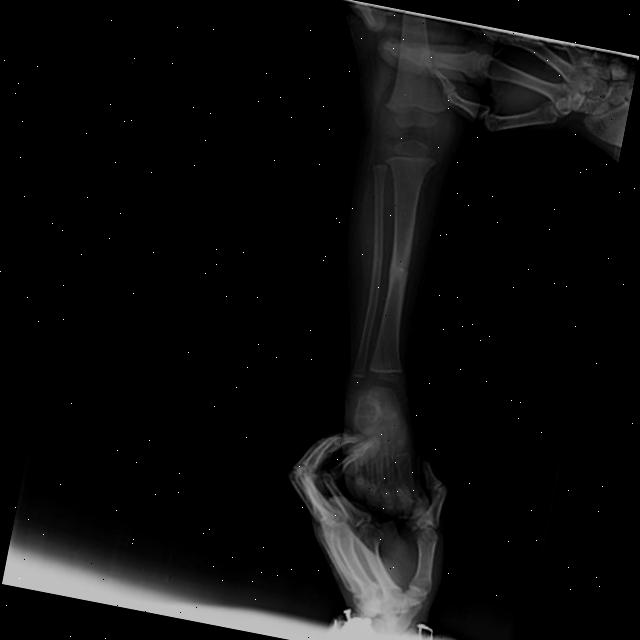fractured: (387, 256, 412, 279)
